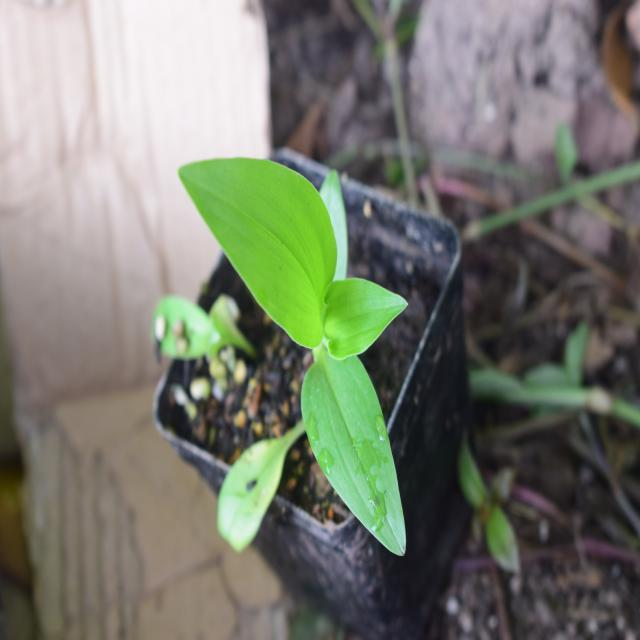Common Dayflower: (179, 129, 422, 571)
